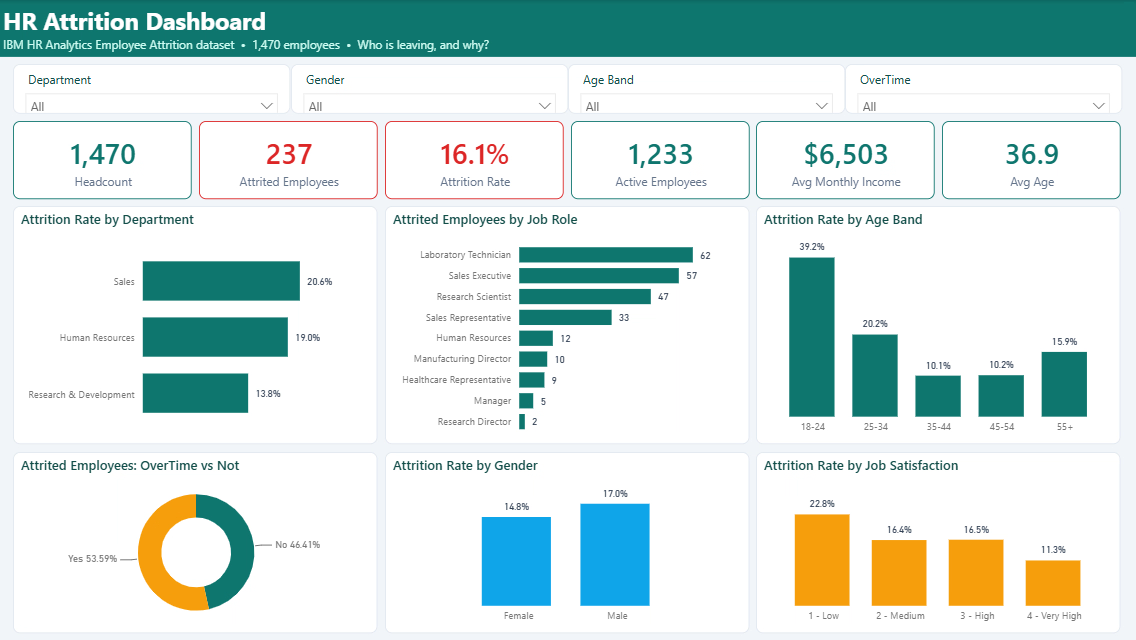

This screenshot's page, from the dashboard's own definition file:
{"tool":"powerbi","page":{"name":"Overview","canvas":[1280,720],"ordinal":0},"visuals":[{"type":"textbox","box":[0,0,1280,64],"z":1000},{"type":"slicer","title":"Department","fields":{"Values":["HR.Department"]},"box":[16,72,312,56],"z":2000},{"type":"slicer","title":"Gender","fields":{"Values":["HR.Gender"]},"box":[328,72,312,56],"z":3000},{"type":"slicer","title":"Age Band","fields":{"Values":["HR.Age Band"]},"box":[640,72,312,56],"z":4000},{"type":"slicer","title":"OverTime","fields":{"Values":["HR.OverTime"]},"box":[952,72,312,56],"z":5000},{"type":"card","title":"Headcount","fields":{"Values":["HR.Total Employees"]},"box":[16,136,201,88],"z":6000},{"type":"card","title":"Attrited Employees","fields":{"Values":["HR.Attrited Employees"]},"box":[225,136,201,88],"z":7000},{"type":"card","title":"Attrition Rate","fields":{"Values":["HR.Attrition Rate %"]},"box":[434,136,201,88],"z":8000},{"type":"card","title":"Active Employees","fields":{"Values":["HR.Active Employees"]},"box":[643,136,201,88],"z":9000},{"type":"card","title":"Avg Monthly Income","fields":{"Values":["HR.Avg Monthly Income"]},"box":[852,136,201,88],"z":10000},{"type":"card","title":"Avg Age","fields":{"Values":["HR.Avg Age"]},"box":[1061,136,201,88],"z":11000},{"type":"clusteredBarChart","title":"Attrition Rate by Department","fields":{"Category":["HR.Department"],"Y":["HR.Attrition Rate %"]},"box":[16,232,410,268],"z":12000},{"type":"clusteredBarChart","title":"Attrited Employees by Job Role","fields":{"Category":["HR.JobRole"],"Y":["HR.Attrited Employees"]},"box":[434,232,410,268],"z":13000},{"type":"clusteredColumnChart","title":"Attrition Rate by Age Band","fields":{"Category":["HR.Age Band"],"Y":["HR.Attrition Rate %"]},"box":[852,232,410,268],"z":14000},{"type":"donutChart","title":"Attrited Employees: OverTime vs Not","fields":{"Category":["HR.OverTime"],"Y":["HR.Attrited Employees"]},"box":[16,508,410,204],"z":15000},{"type":"clusteredColumnChart","title":"Attrition Rate by Gender","fields":{"Category":["HR.Gender"],"Y":["HR.Attrition Rate %"]},"box":[434,508,410,204],"z":16000},{"type":"clusteredColumnChart","title":"Attrition Rate by Job Satisfaction","fields":{"Category":["HR.Job Satisfaction Level"],"Y":["HR.Attrition Rate %"]},"box":[852,508,410,204],"z":17000}]}

Visuals, with their boxes in screenshot pixels (x1, y1, x2, y2), scaled from the page's 1280x720 canvas onto the 1136x640 screenshot:
textbox: rect(0, 0, 1135, 57)
"Department" slicer: rect(14, 64, 291, 114)
"Gender" slicer: rect(291, 64, 568, 114)
"Age Band" slicer: rect(568, 64, 845, 114)
"OverTime" slicer: rect(845, 64, 1122, 114)
"Headcount" card: rect(14, 121, 193, 199)
"Attrited Employees" card: rect(200, 121, 378, 199)
"Attrition Rate" card: rect(385, 121, 564, 199)
"Active Employees" card: rect(571, 121, 749, 199)
"Avg Monthly Income" card: rect(756, 121, 935, 199)
"Avg Age" card: rect(942, 121, 1120, 199)
"Attrition Rate by Department" clusteredBarChart: rect(14, 206, 378, 444)
"Attrited Employees by Job Role" clusteredBarChart: rect(385, 206, 749, 444)
"Attrition Rate by Age Band" clusteredColumnChart: rect(756, 206, 1120, 444)
"Attrited Employees: OverTime vs Not" donutChart: rect(14, 452, 378, 633)
"Attrition Rate by Gender" clusteredColumnChart: rect(385, 452, 749, 633)
"Attrition Rate by Job Satisfaction" clusteredColumnChart: rect(756, 452, 1120, 633)
